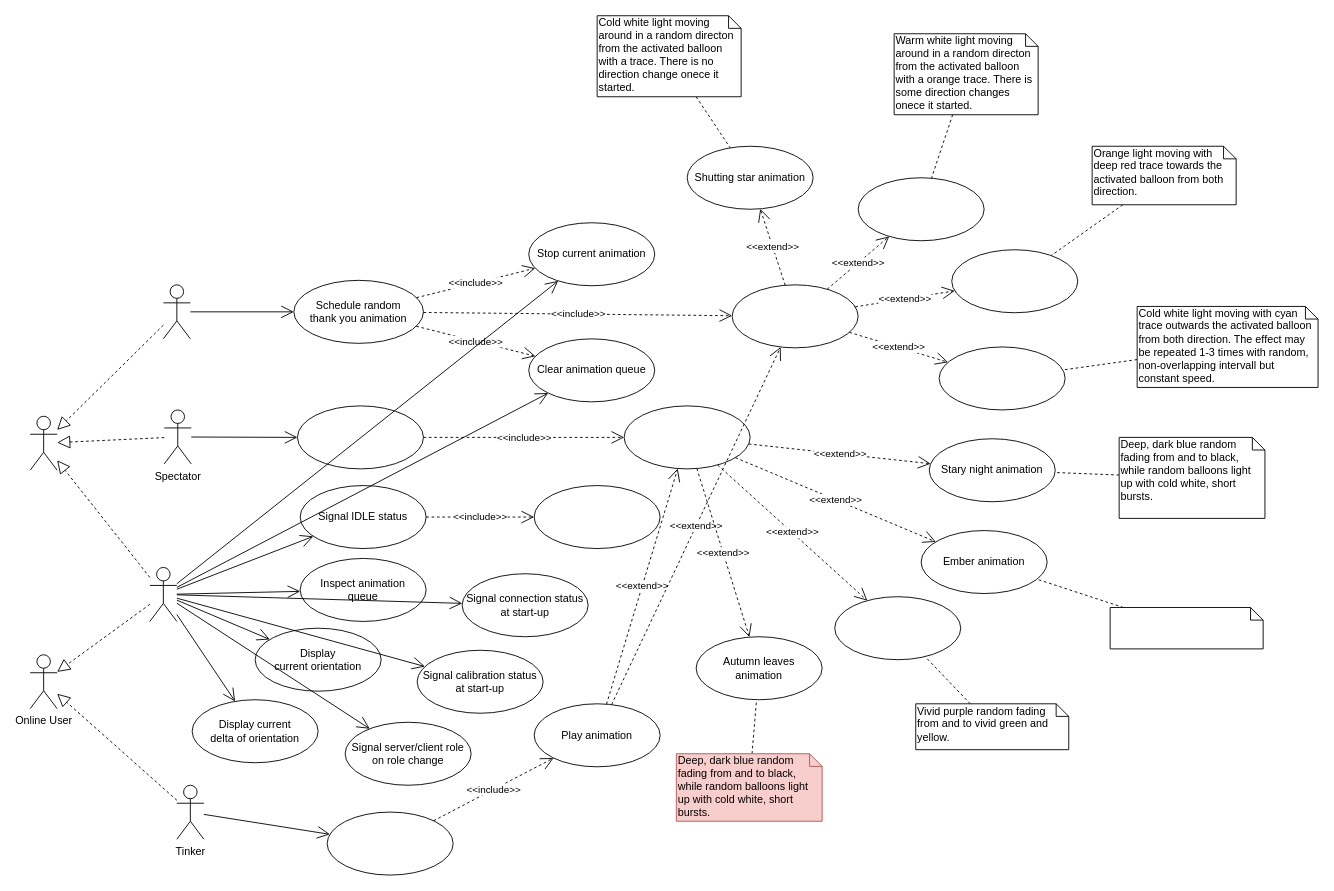
Some shapes in this 1334 by 891 pixel diagram are drawn without their labels. Here are the shapes that lost their labels. From the top down, the box of each, then its label:
(857, 177, 984, 241): Spark animation
(951, 249, 1078, 313): Fire storm animation
(162, 284, 190, 339): Giver
(731, 284, 858, 348): Play local animation
(938, 346, 1065, 410): Rippling water animation
(29, 415, 57, 470): Offline User
(297, 405, 423, 469): Schedule random animation at random time
(623, 405, 750, 469): Play global animation
(533, 485, 660, 549): Play IDLE animation
(149, 567, 177, 621): Admin
(834, 596, 961, 660): Aurora animation
(1109, 607, 1263, 649): Deep, dark red and orange random fading from and to black.
(326, 811, 453, 875): Select and schedule animation
